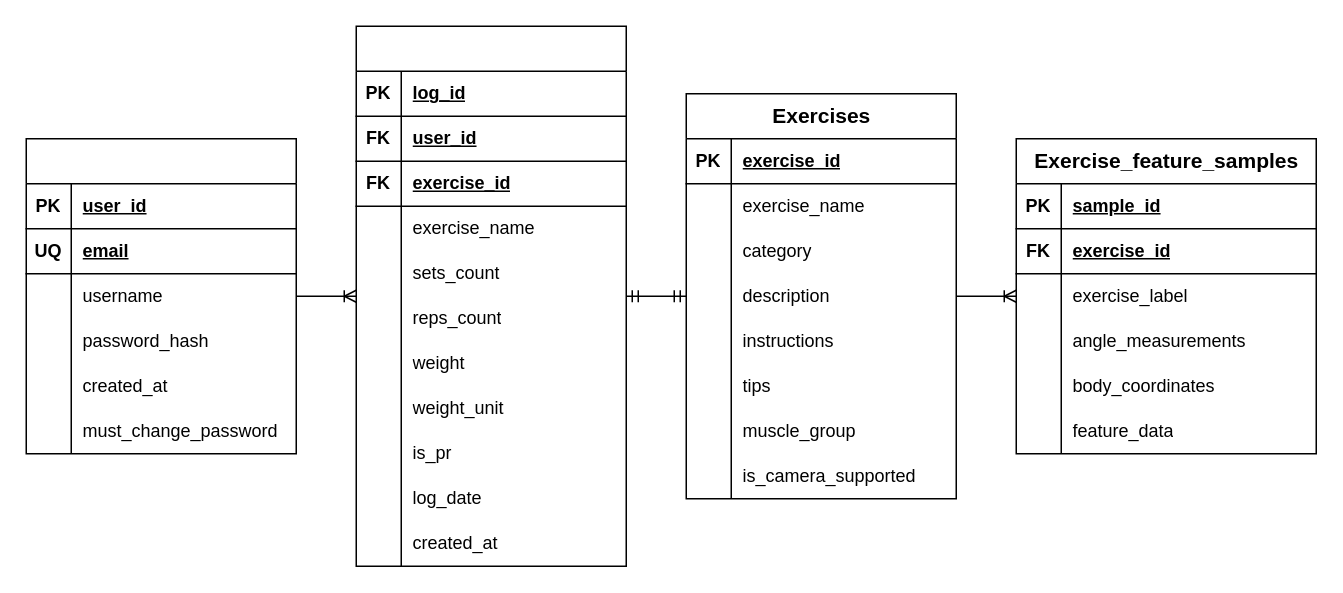
The diagram is 1343 pixels wide and 593 high, and some of its shapes have lost their labels. The shapes that lost their labels are listed below. From the top down, each one's box as (x1, y1, x2, y2) in pixels, then its label:
(25, 137, 296, 454): Users
(355, 25, 626, 566): Workout_logs
